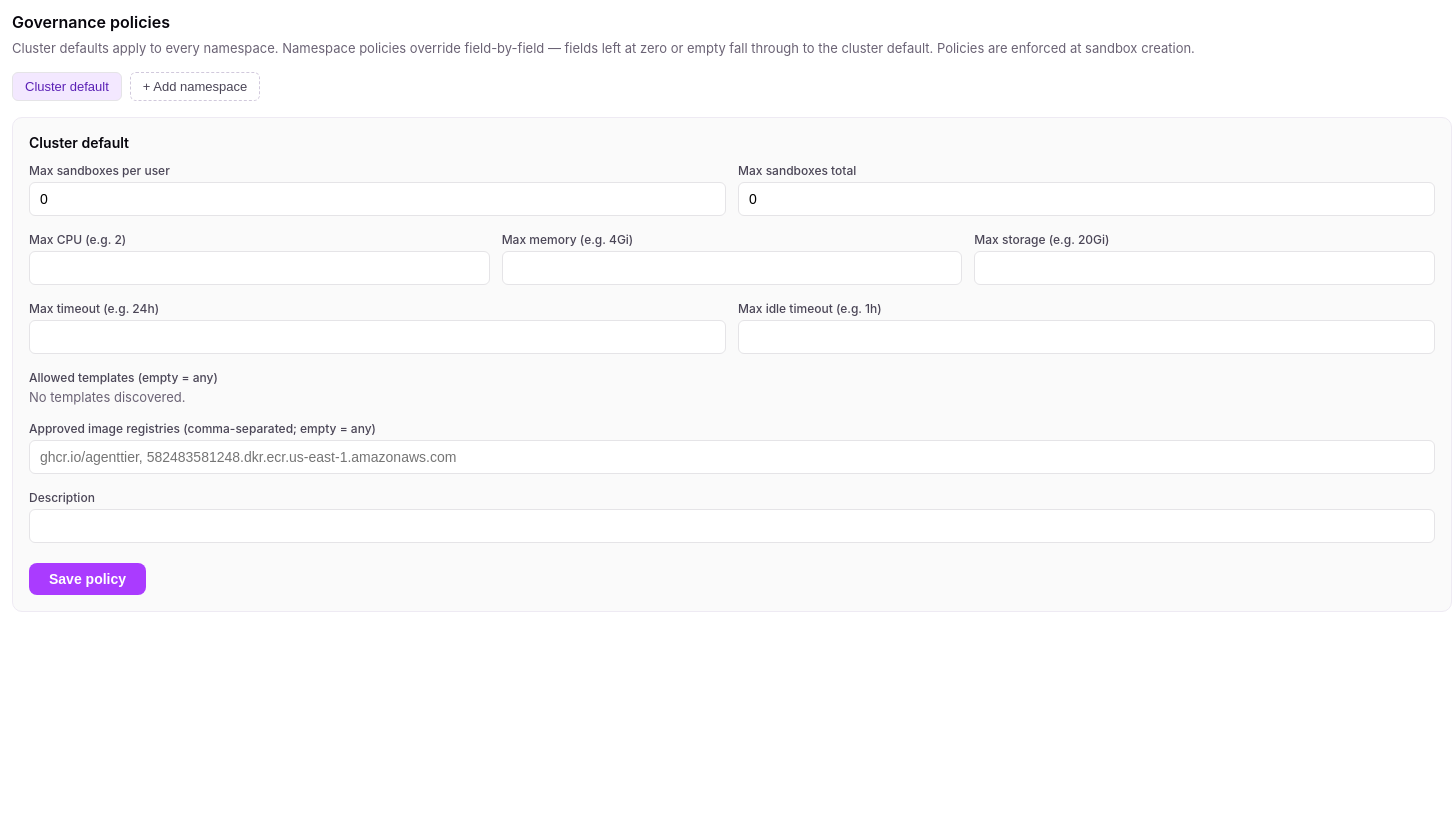
GovernanceEditor › saves a new namespace policy and switches scope to it
The image size is (1452, 822).
Expected: the heading "Governance policies" is shown, [12,12,170,32]
Click the button "+ Add namespace" at (195, 86), box [130,72,260,101]
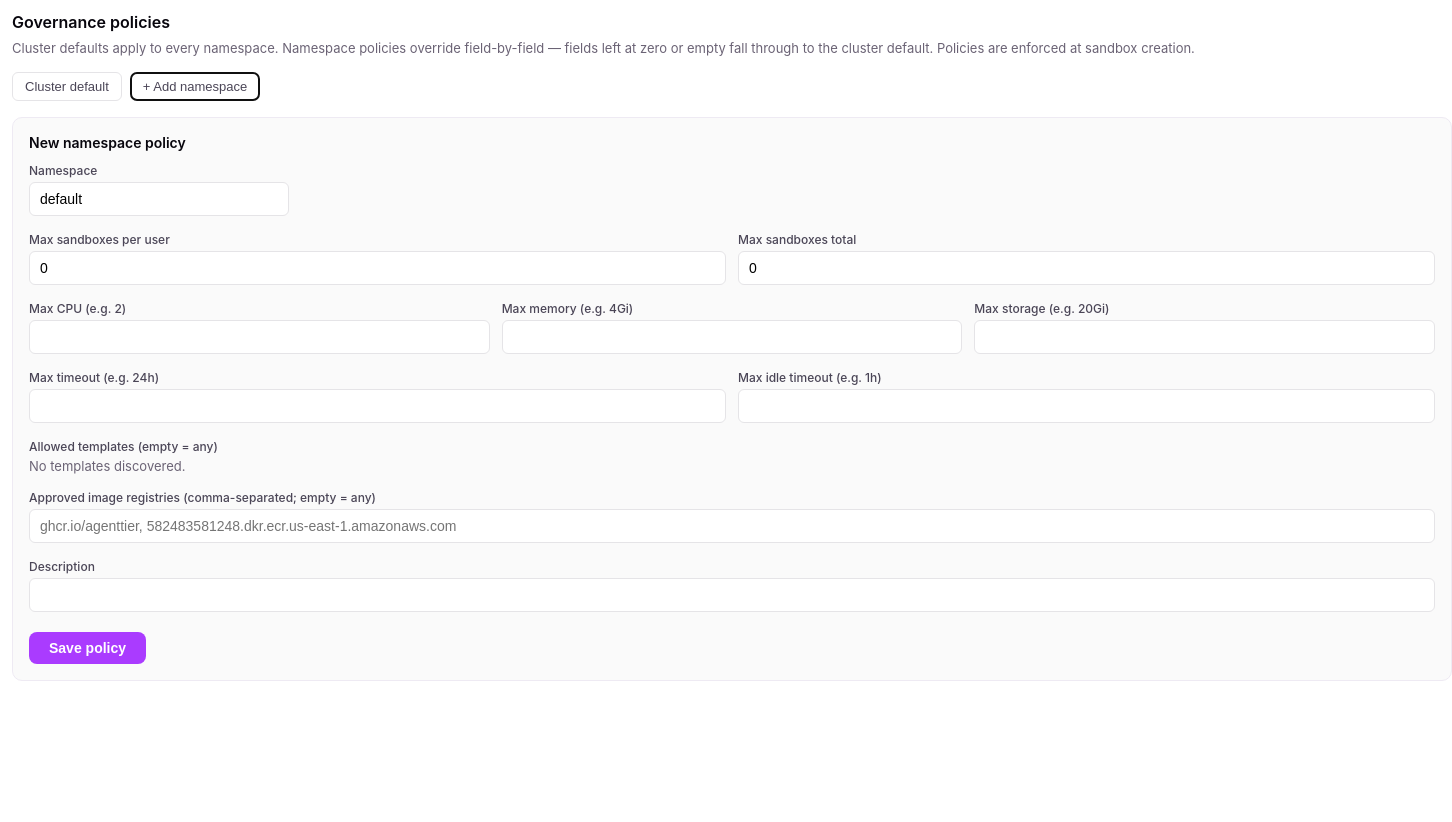
Type "team-b" into the 1st field with placeholder "default" at (159, 199), box [29,182,289,216]
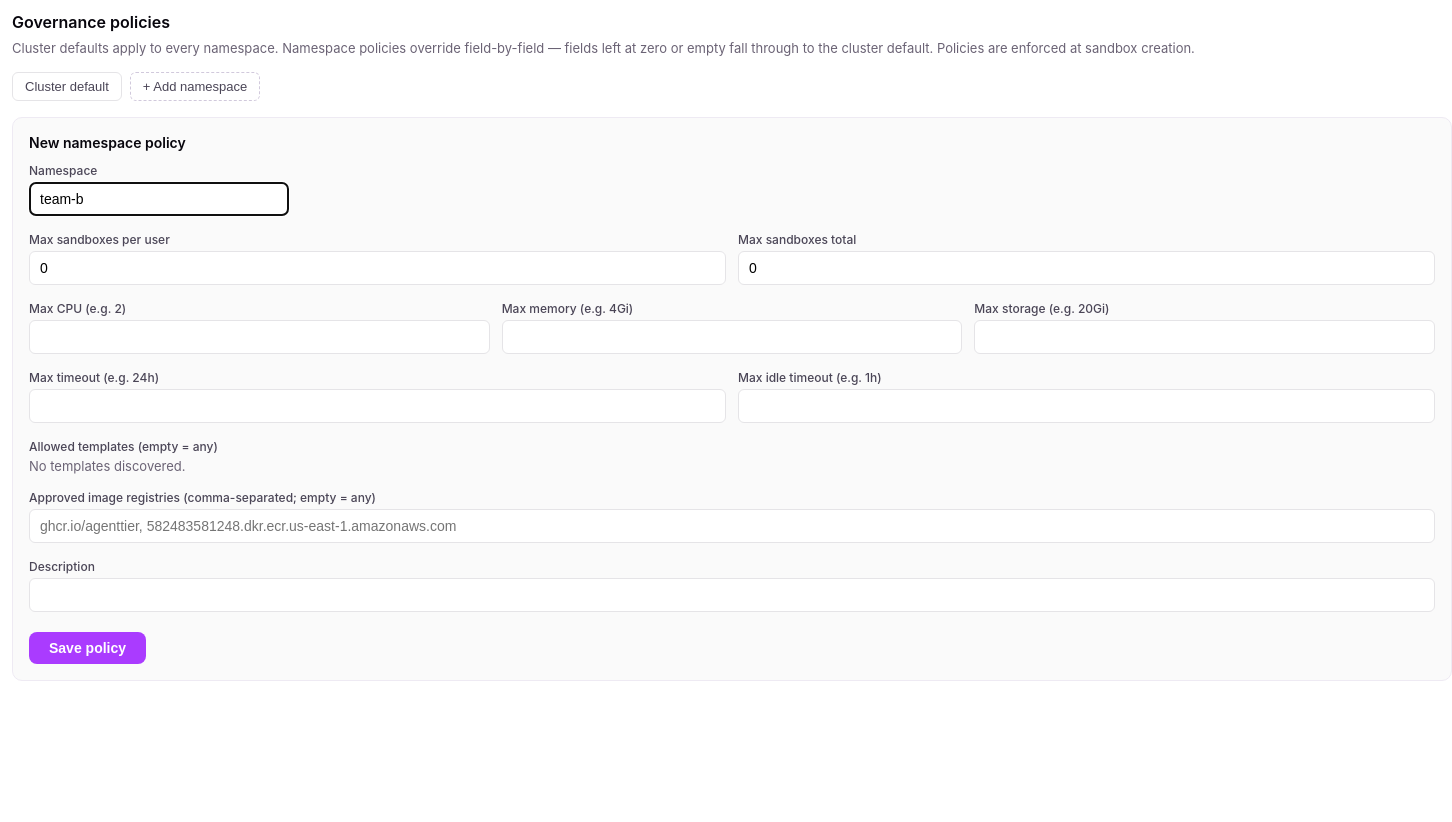
Click the button "Save policy" at (88, 648), box [29,632,146,664]
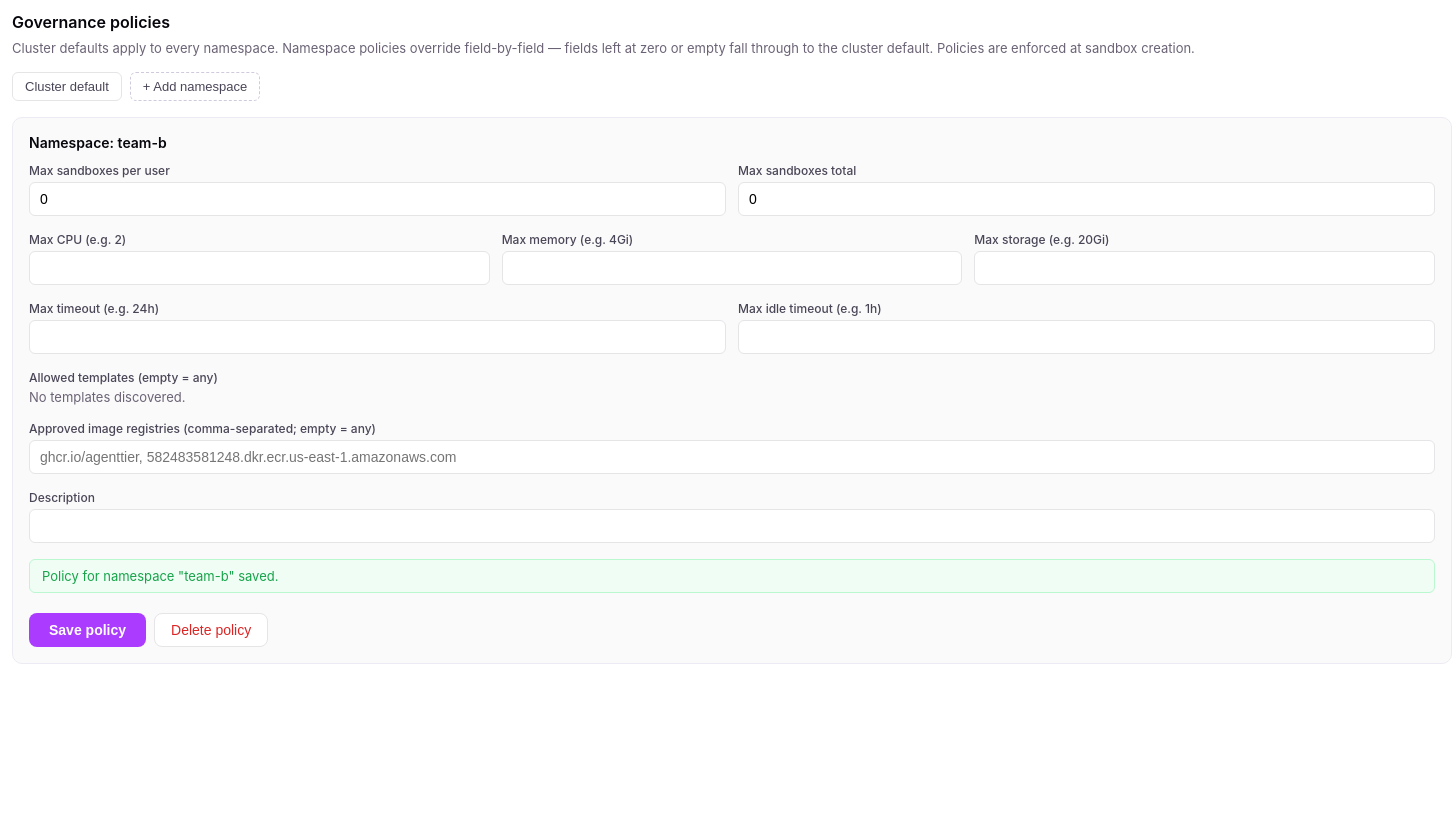
Expected: the text "Policy for namespace \"team-b\" saved." is shown, [29,559,1435,593]
